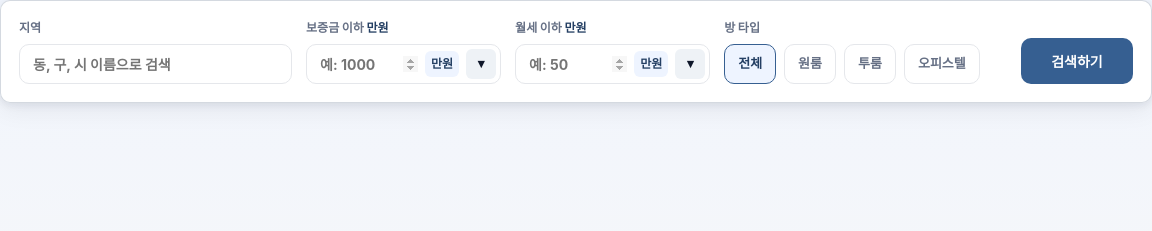
FilterBar › 지역 자동완성 후보를 화살표 키와 엔터로 선택할 수 있다
Type "목포" into the search field with test id "location-input". click: (156, 64)
box: top-left (19, 44), bottom-right (292, 84)
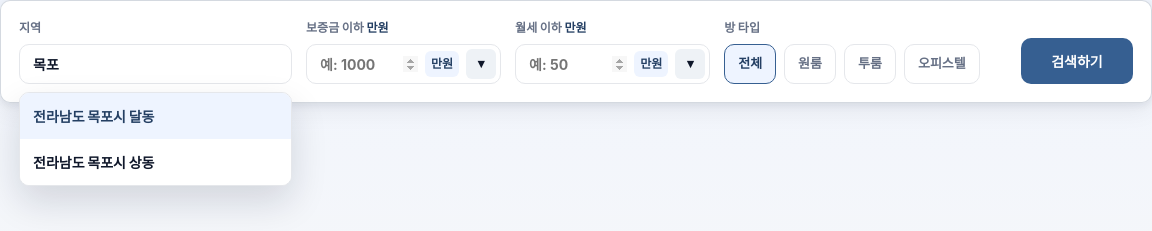
Press ArrowDown in the search field with test id "location-input", box top-left (19, 44), bottom-right (292, 84)
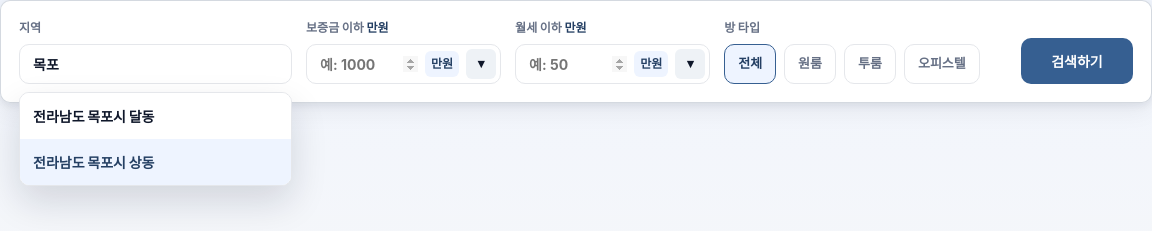
Press Enter in the search field with test id "location-input", box top-left (19, 44), bottom-right (292, 84)
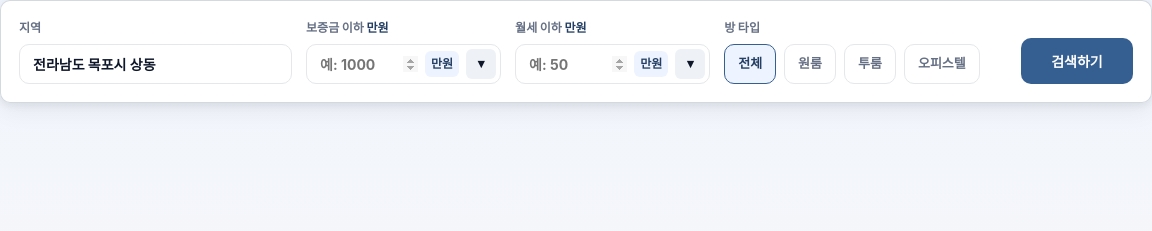
Expected: the search field with test id "location-input" holds "전라남도 목포시 상동", top-left (19, 44), bottom-right (292, 84)
